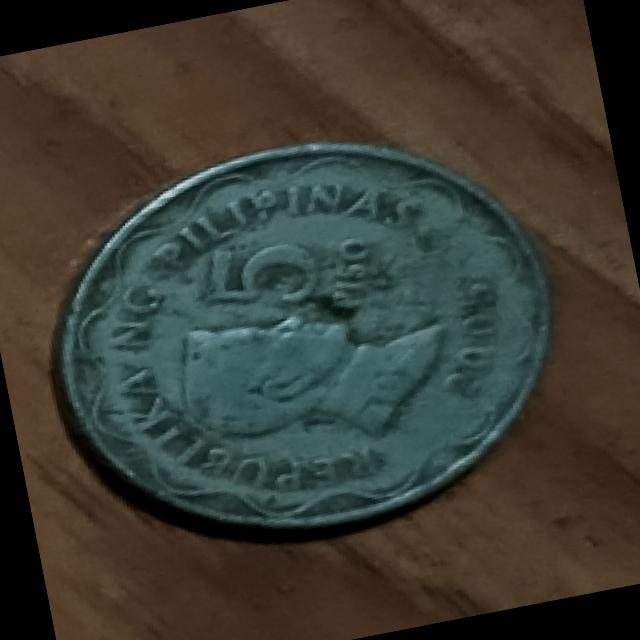5_peso: (54, 144, 550, 529)
